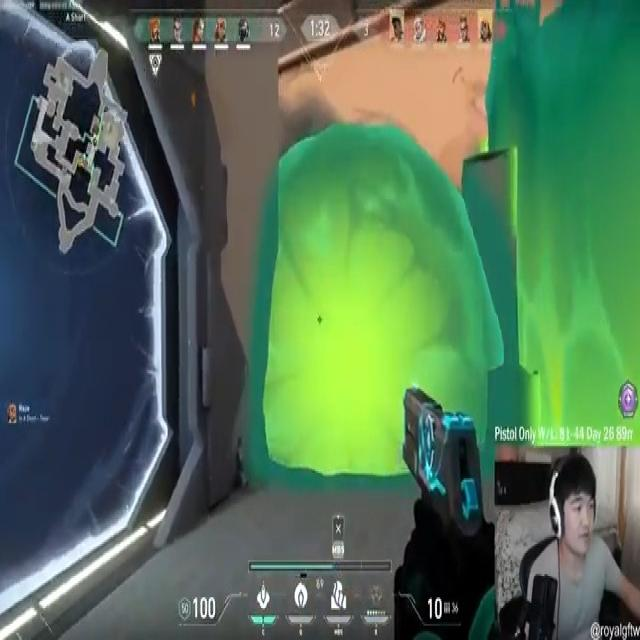smoke: (267, 129, 498, 471)
